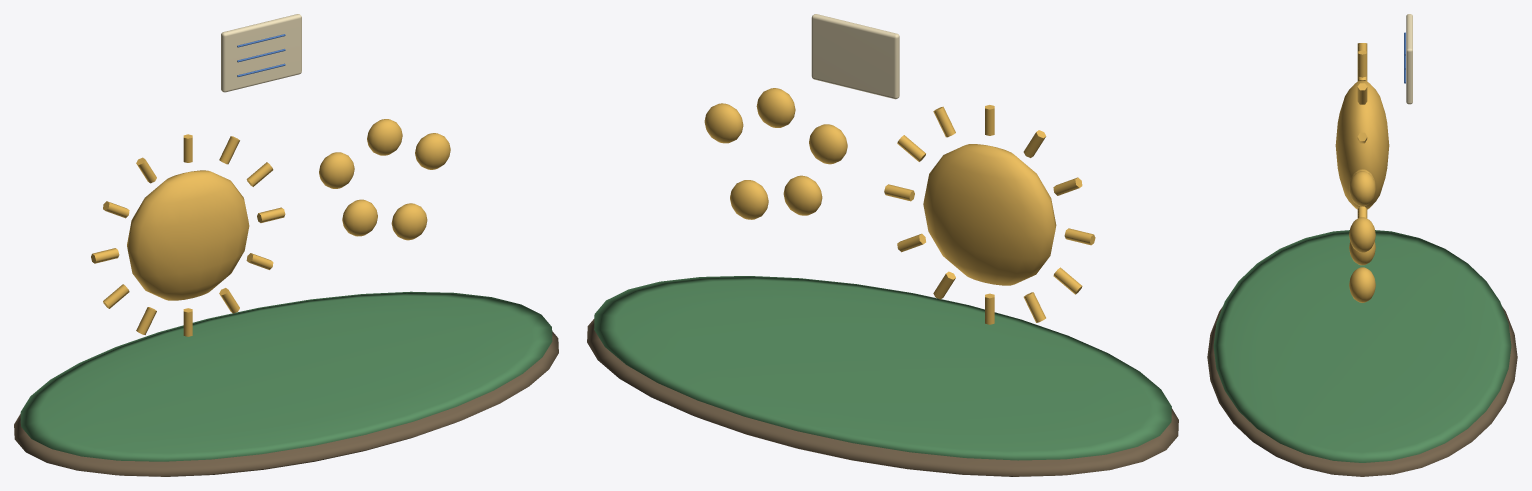
The model's file is complete-third-daylight-fire-dots.glb.
3 renders of one model, left to right at view 1: azimuth 30°, elevation 25°; view 2: azimuth 150°, elevation 25°; view 3: azimuth 270°, elevation 25°, orthographic. The views are drawn at different scales.
Visible parts, largest first — view 1: complete-third-daylight-fire-dots_surface_01, complete-third-daylight-fire-dots_surface_02, complete-third-daylight-fire-dots_surface_00, complete-third-daylight-fire-dots_surface_03; view 2: complete-third-daylight-fire-dots_surface_01, complete-third-daylight-fire-dots_surface_02, complete-third-daylight-fire-dots_surface_00, complete-third-daylight-fire-dots_surface_03; view 3: complete-third-daylight-fire-dots_surface_01, complete-third-daylight-fire-dots_surface_02, complete-third-daylight-fire-dots_surface_00, complete-third-daylight-fire-dots_surface_03.
Boxes of the visible parts, box(x1,y1,x2,y2) form: complete-third-daylight-fire-dots_surface_01: box(20, 291, 552, 461); complete-third-daylight-fire-dots_surface_02: box(91, 119, 450, 336); complete-third-daylight-fire-dots_surface_00: box(14, 331, 558, 476); complete-third-daylight-fire-dots_surface_03: box(221, 14, 301, 92); complete-third-daylight-fire-dots_surface_01: box(594, 276, 1171, 460); complete-third-daylight-fire-dots_surface_02: box(704, 88, 1095, 324); complete-third-daylight-fire-dots_surface_00: box(587, 319, 1178, 476); complete-third-daylight-fire-dots_surface_03: box(811, 14, 899, 99); complete-third-daylight-fire-dots_surface_01: box(1213, 230, 1511, 462); complete-third-daylight-fire-dots_surface_02: box(1335, 43, 1389, 302); complete-third-daylight-fire-dots_surface_00: box(1207, 306, 1517, 476); complete-third-daylight-fire-dots_surface_03: box(1406, 14, 1412, 104).
Size of the model in its own units: 4.56 by 3.03 by 2.5.
